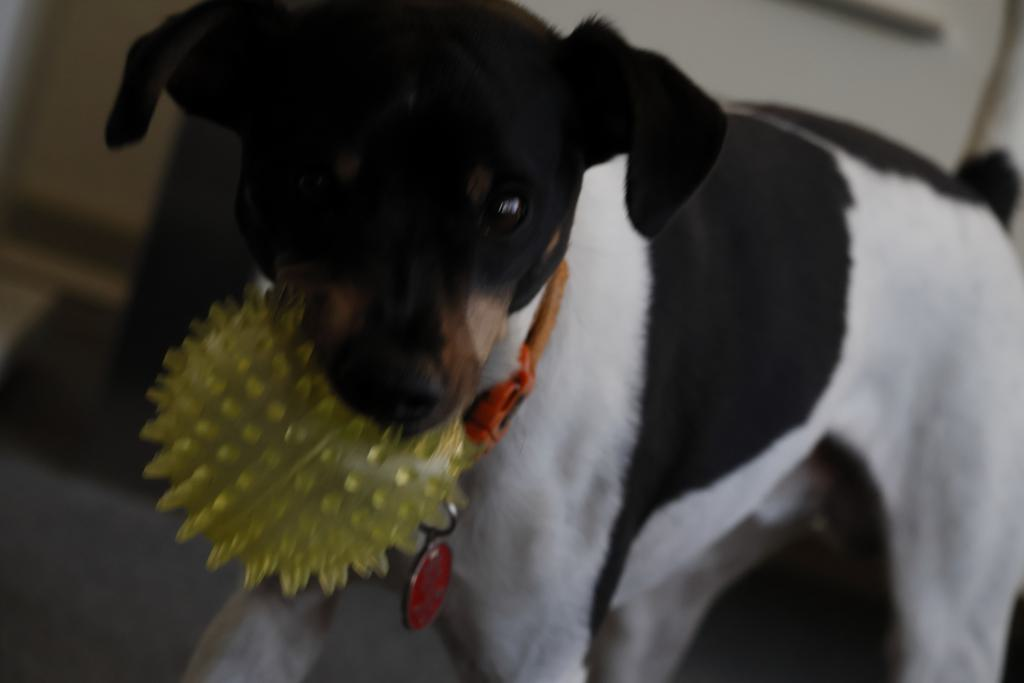Dog: (84, 0, 1024, 683)
